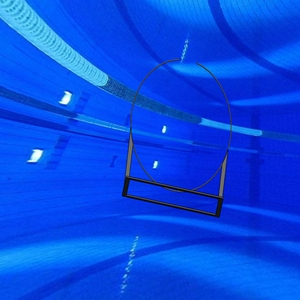circle: (121, 56, 233, 219)
